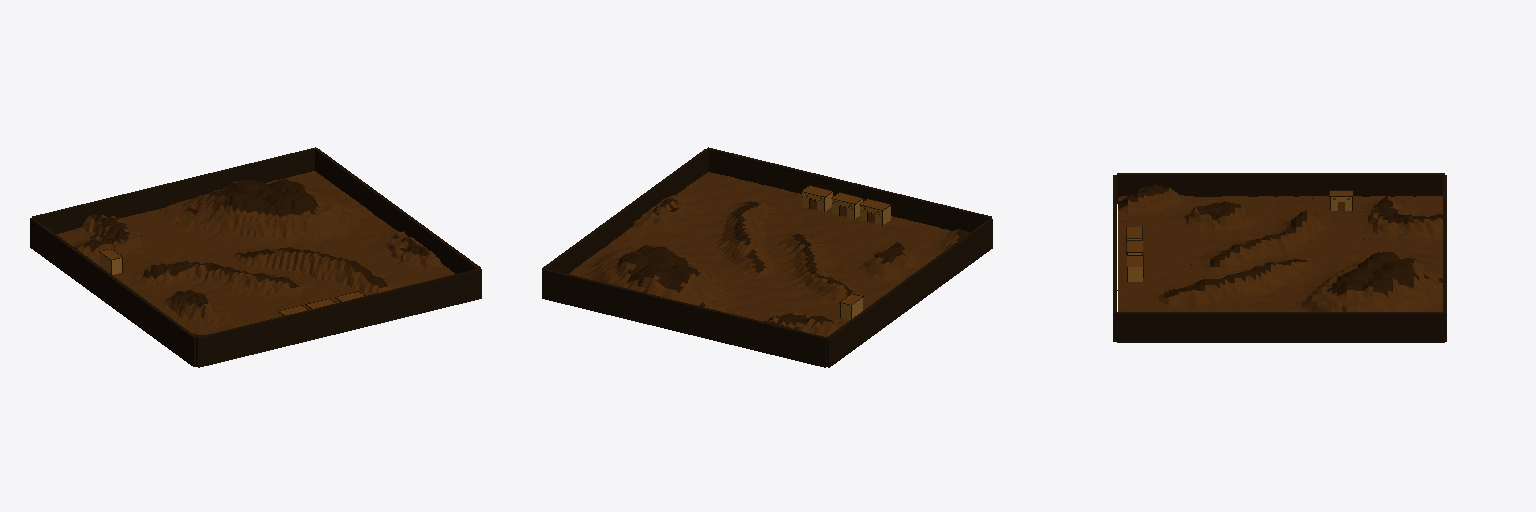
Rendered from Sinai.obj.
The picture shows the model from 3 angles: view 1: azimuth 30°, elevation 25°; view 2: azimuth 150°, elevation 25°; view 3: azimuth 270°, elevation 25°; orthographic projection.
Parts seen in each view (by area): view 1: Plane, Cube_145.003_Cube.002, Cube_145.002_Cube.001, Cube_145_Cube.010, Cube_145.001_Cube.000; view 2: Plane, Cube_145.002_Cube.001, Cube_145.003_Cube.002, Cube_145_Cube.010, Cube_145.001_Cube.000, Cube_016_Cube.013, Cube_016.002_Cube.573, Cube_016.001_Cube.572; view 3: Plane, Cube_145.001_Cube.000, Cube_145_Cube.010, Cube_145.003_Cube.002, Cube_145.002_Cube.001.
Part boxes in pixels (left/top/right/bottom): Plane: left=56, top=171, right=454, bottom=336; Cube_145.003_Cube.002: left=196, top=268, right=481, bottom=367; Cube_145.002_Cube.001: left=32, top=147, right=316, bottom=233; Cube_145_Cube.010: left=30, top=217, right=195, bottom=366; Cube_145.001_Cube.000: left=315, top=148, right=480, bottom=273; Plane: left=569, top=172, right=968, bottom=336; Cube_145.002_Cube.001: left=542, top=268, right=826, bottom=367; Cube_145.003_Cube.002: left=707, top=147, right=991, bottom=232; Cube_145_Cube.010: left=827, top=218, right=992, bottom=367; Cube_145.001_Cube.000: left=542, top=149, right=708, bottom=273; Cube_016_Cube.013: left=859, top=198, right=891, bottom=225; Cube_016.002_Cube.573: left=801, top=185, right=833, bottom=211; Cube_016.001_Cube.572: left=831, top=192, right=863, bottom=218; Plane: left=1118, top=185, right=1442, bottom=311; Cube_145.001_Cube.000: left=1117, top=312, right=1444, bottom=342; Cube_145_Cube.010: left=1117, top=173, right=1444, bottom=203; Cube_145.003_Cube.002: left=1113, top=175, right=1116, bottom=341; Cube_145.002_Cube.001: left=1443, top=175, right=1446, bottom=341.
Bounding box in the file's own units: 389 × 42.46 × 390.